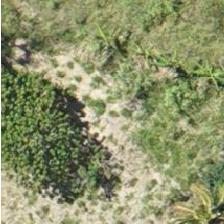coconut_tree: (151, 171, 223, 223)
